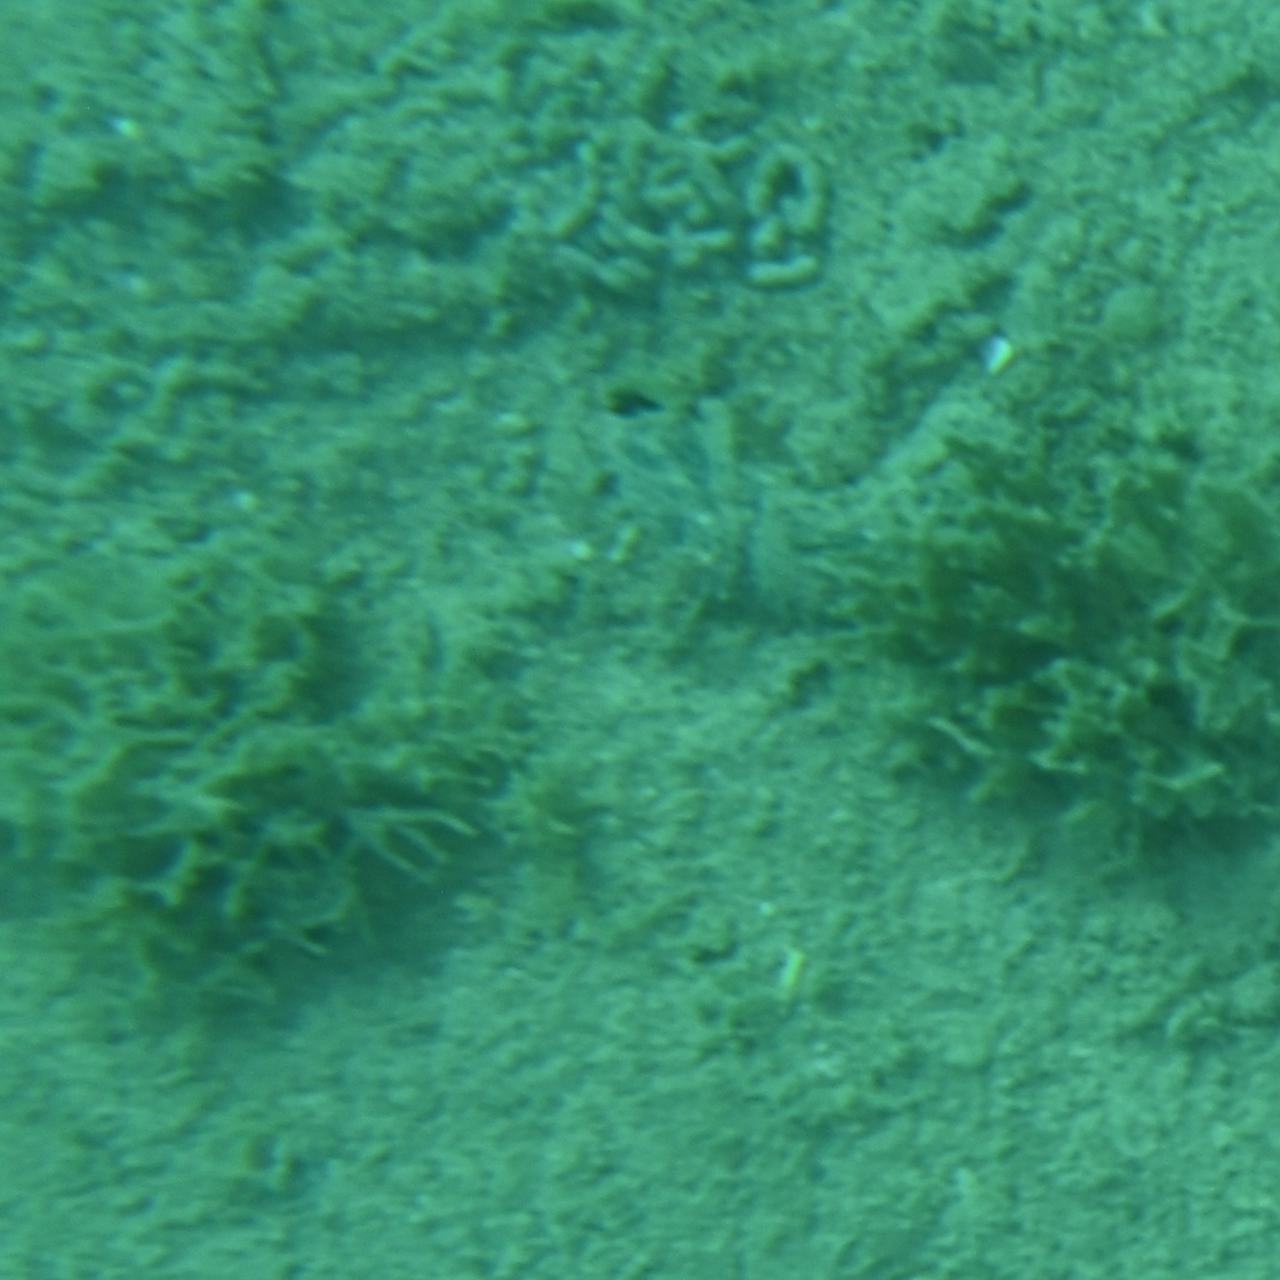Holothuria tubulosa: (680, 291, 1062, 658)
Phaeophyceae -cfr Cystoseira-: (0, 561, 524, 1051), (835, 380, 1280, 883)
